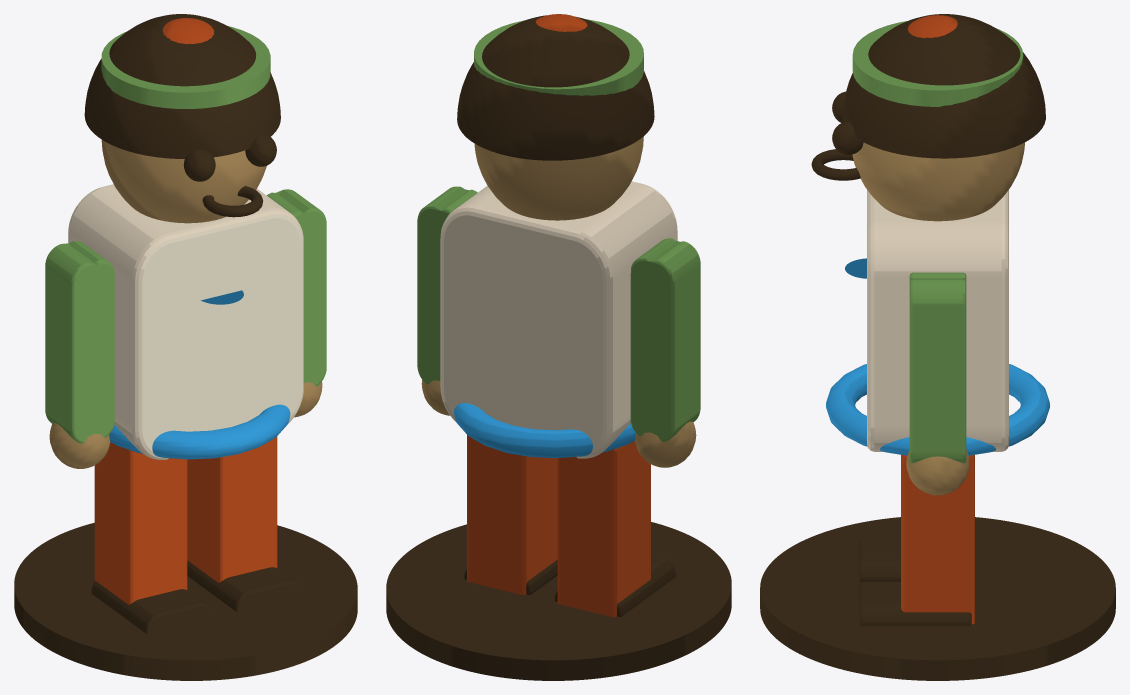
The model's file is 0276_世界古代文明图鉴_波斯士兵.glb.
3 renders of one model, left to right at view 1: azimuth 30°, elevation 25°; view 2: azimuth 150°, elevation 25°; view 3: azimuth 270°, elevation 25°, orthographic.
Parts seen in each view (by area): view 1: card_0276; view 2: card_0276; view 3: card_0276.
Boxes of the visible parts, bbox=[...] form: card_0276: bbox=[14, 14, 357, 680]; card_0276: bbox=[386, 14, 731, 680]; card_0276: bbox=[760, 14, 1115, 680].
Bounding box in the file's own units: 0.5277 × 1 × 0.5476.
